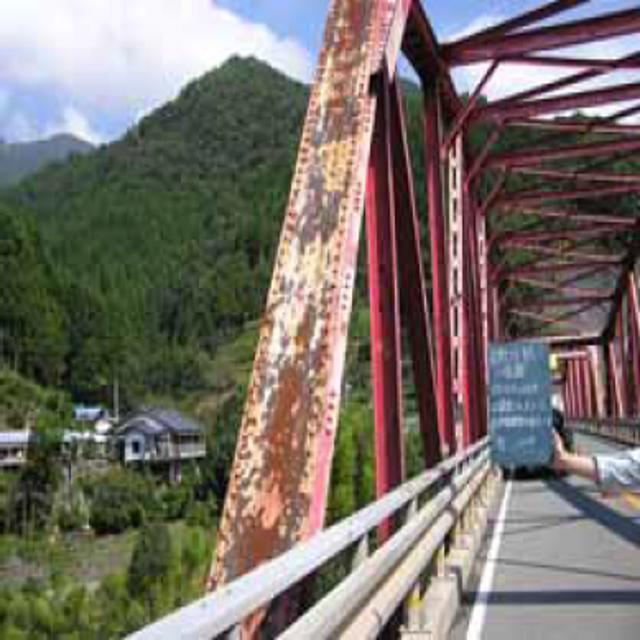corrosion: (203, 3, 413, 566)
